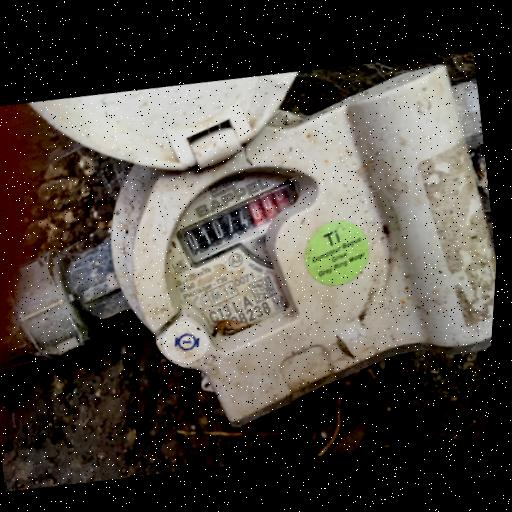0: (179, 224, 208, 259), (204, 213, 233, 248)
1: (191, 218, 220, 253)
4: (228, 200, 259, 236)
7: (216, 207, 246, 242)
8: (242, 195, 272, 230), (268, 181, 297, 214)
9: (255, 190, 283, 224)
border_water_meter_number: (169, 171, 309, 268)
